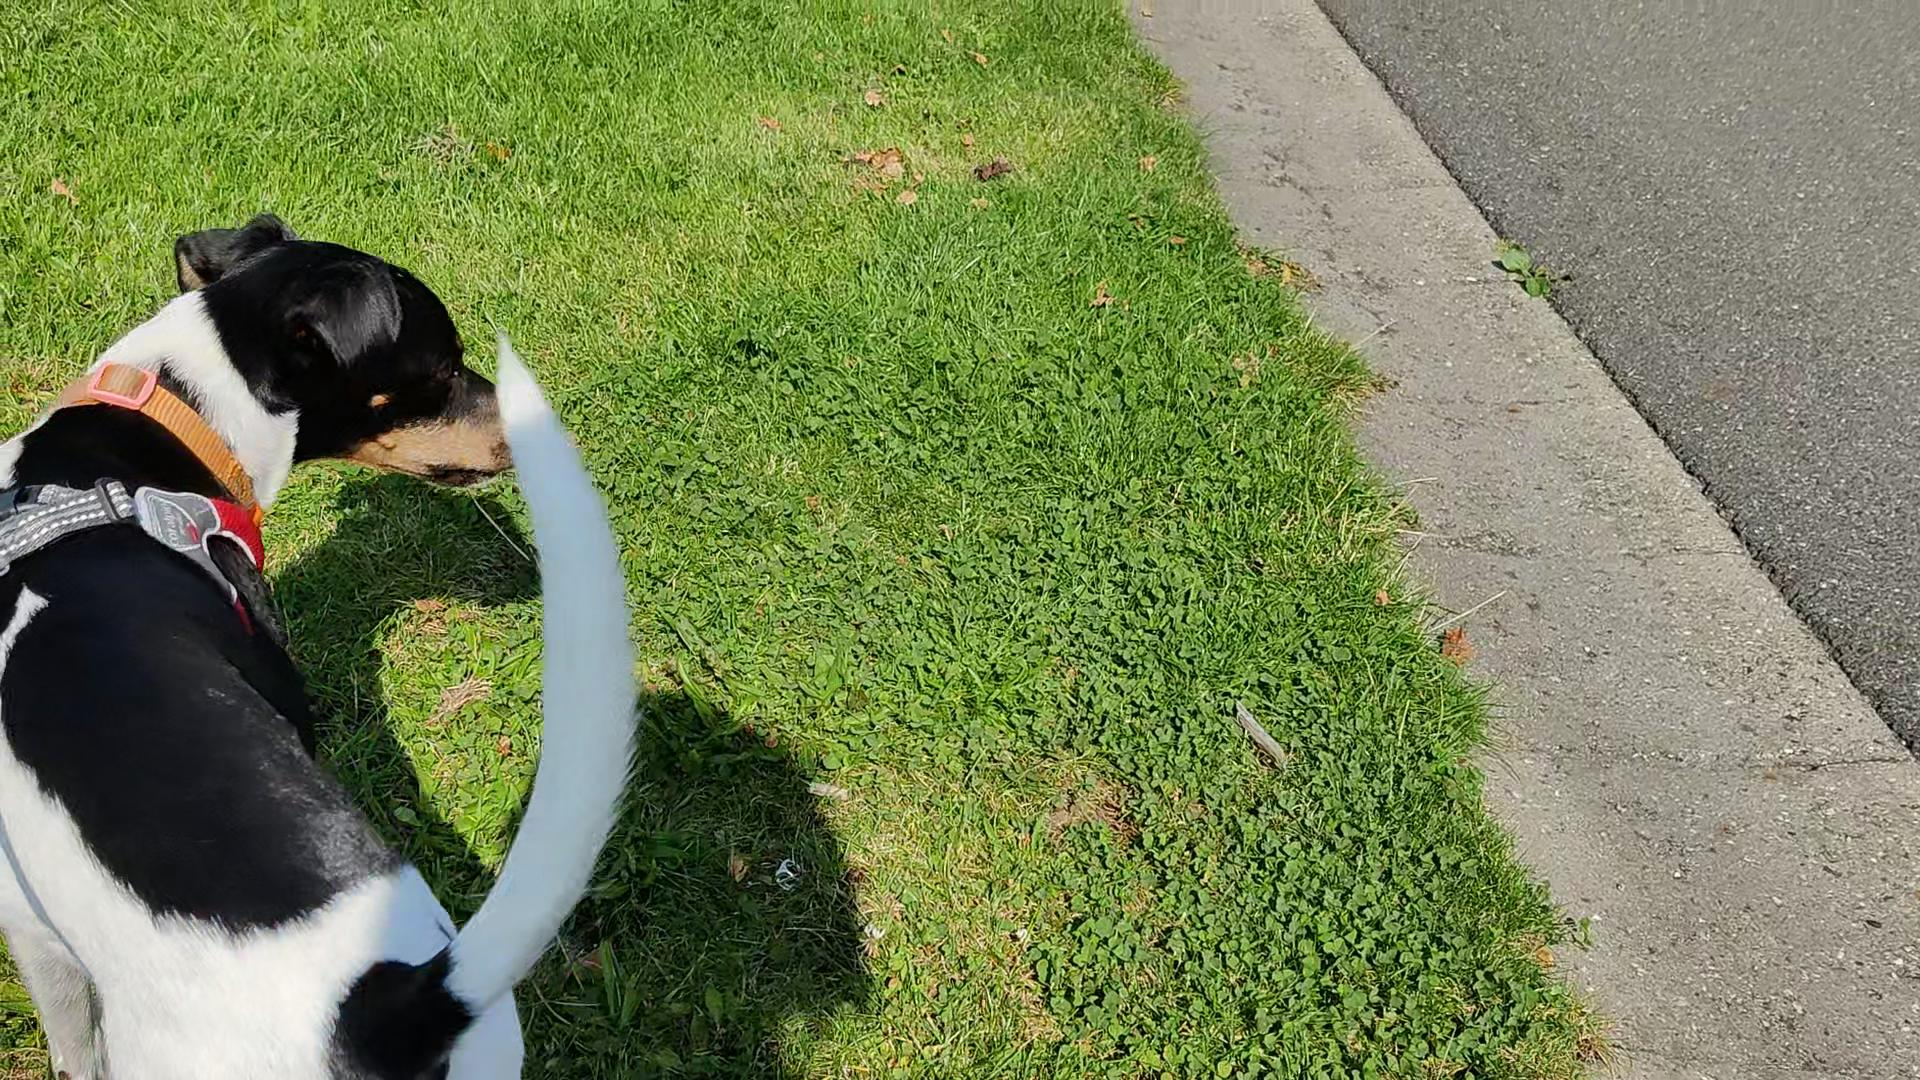Dog: (0, 204, 654, 1079)
